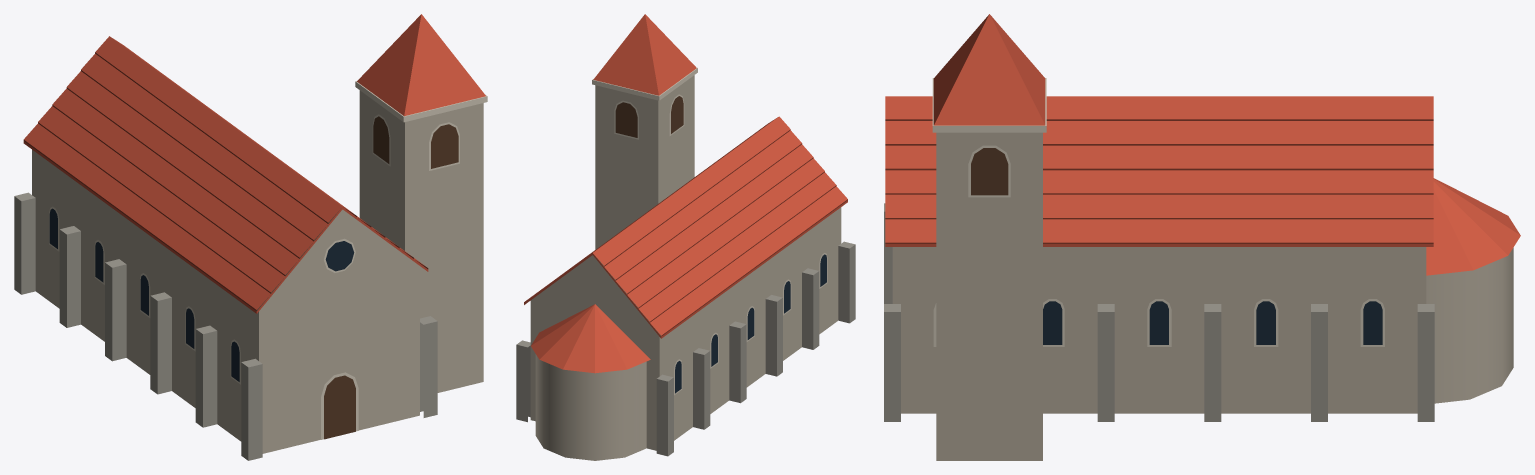
File: eglise_romane.glb
The picture shows the model from 3 angles, left to right: view 1: azimuth 30°, elevation 25°; view 2: azimuth 150°, elevation 25°; view 3: azimuth 270°, elevation 25°; orthographic projection. The views are drawn at different scales.
Visible parts, largest first — view 1: eglise_romane; view 2: eglise_romane; view 3: eglise_romane.
Part boxes in pixels (left/top/right/bottom): eglise_romane: left=14, top=14, right=487, bottom=460; eglise_romane: left=516, top=14, right=855, bottom=460; eglise_romane: left=884, top=14, right=1520, bottom=460.
Bounding box in the file's own units: 14.55 × 19.3 × 26.25.
Materials: 1 (1 with a texture image).
